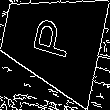P_W: (28, 17, 76, 65)
